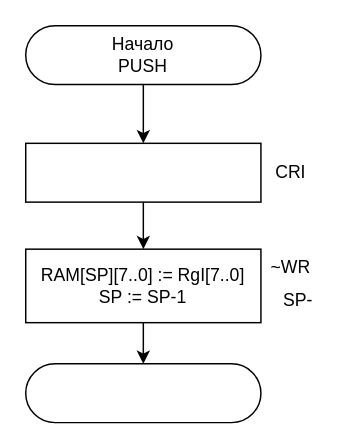
Image size: 353x448. Some labels were removed from this diagram. Each missing label, with the centre of its shape:
"RgI[7..0] := MD[7..0]" goes at [142,172].
"Конец PUSH" goes at [142,392].
